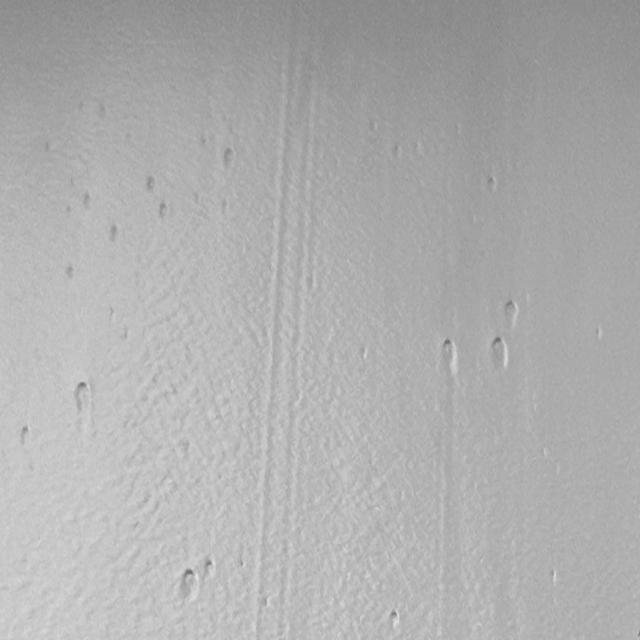pin holes: (436, 337, 461, 376), (69, 379, 93, 416), (486, 338, 509, 372), (176, 567, 199, 601), (500, 298, 520, 329), (218, 145, 236, 171), (16, 424, 34, 448), (386, 610, 404, 634), (78, 190, 96, 213), (156, 200, 172, 223), (108, 223, 124, 246), (483, 174, 500, 195), (63, 263, 79, 283), (143, 176, 159, 196), (357, 344, 373, 364), (392, 142, 406, 164), (202, 559, 216, 579), (220, 198, 230, 223), (592, 325, 605, 344), (190, 188, 202, 208), (548, 569, 560, 585)
